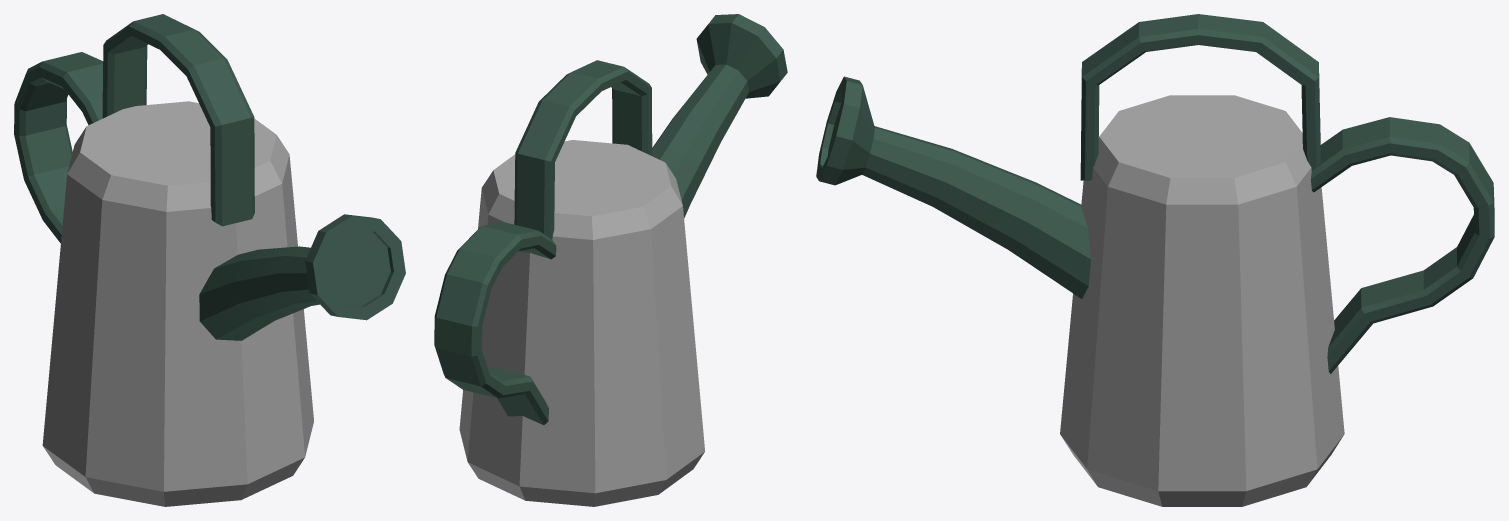
File: watersprinkler_a001.glb
3 renders of one model, left to right at view 1: azimuth 30°, elevation 25°; view 2: azimuth 150°, elevation 25°; view 3: azimuth 270°, elevation 25°, orthographic. The views are drawn at different scales.
Visible parts, largest first — view 1: watersprinkler_a001; view 2: watersprinkler_a001; view 3: watersprinkler_a001.
Part boxes in pixels (x1,y1,x2,y2): watersprinkler_a001: (14,14,405,506); watersprinkler_a001: (434,14,787,506); watersprinkler_a001: (816,14,1494,506).
Bounding box in the file's own units: 0.2341 × 0.4135 × 0.5866.
1 material, 1 textured.
